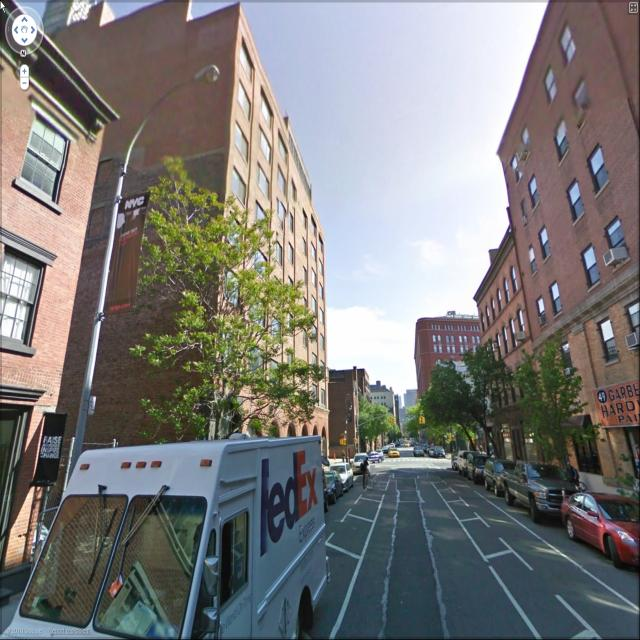b_1: (0, 12, 110, 560), (495, 12, 640, 372), (415, 307, 496, 382)
b_2: (98, 0, 337, 472), (329, 375, 398, 453)
